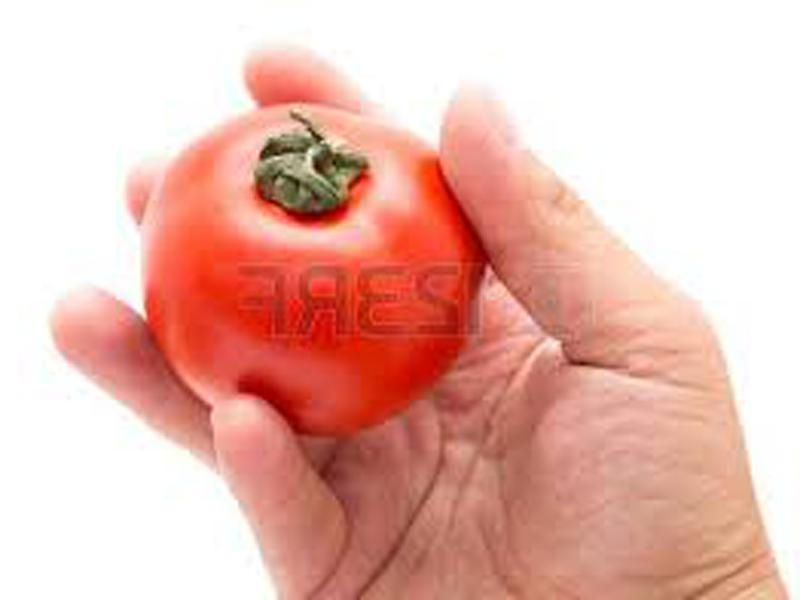Tomato: (139, 103, 481, 434)
